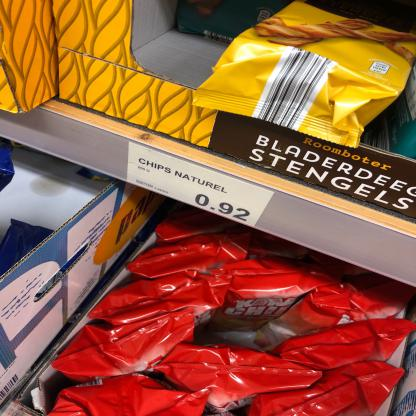prtg: (127, 142, 275, 229)
